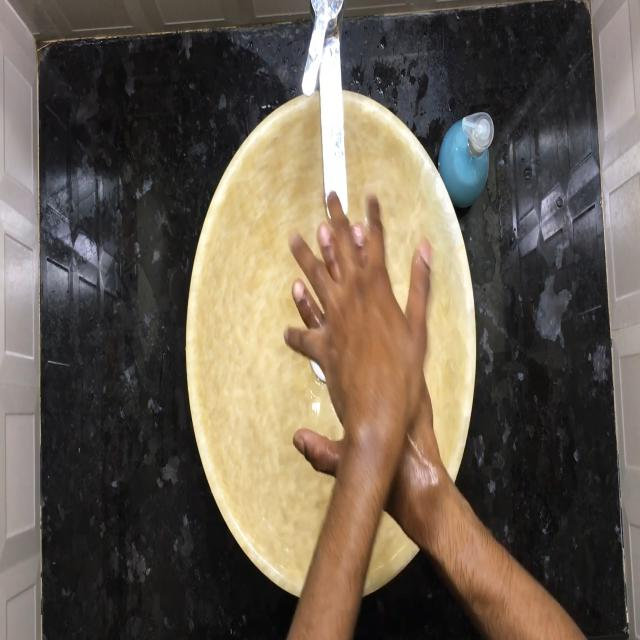step_2: (275, 184, 442, 478)
